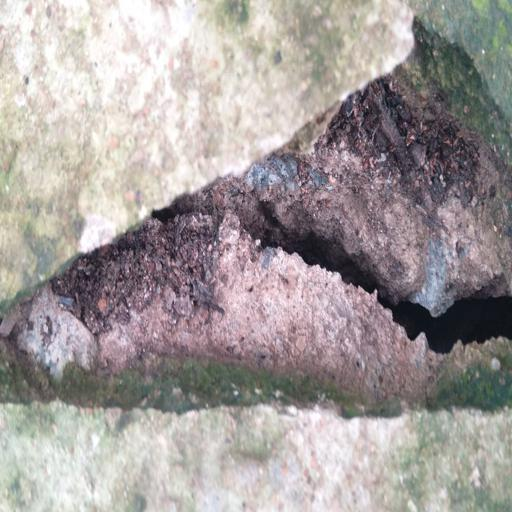spalling: (40, 36, 512, 446)
